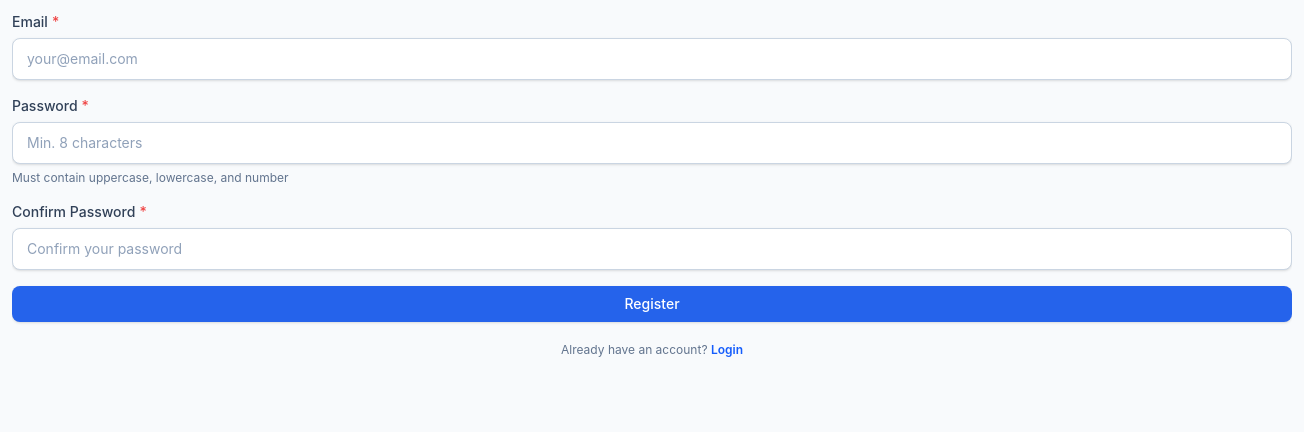
Test: RegisterForm › shows error when passwords do not match
Type "a@b.com" into the field labelled "Email*". click: (652, 59)
box: [12,38,1292,80]
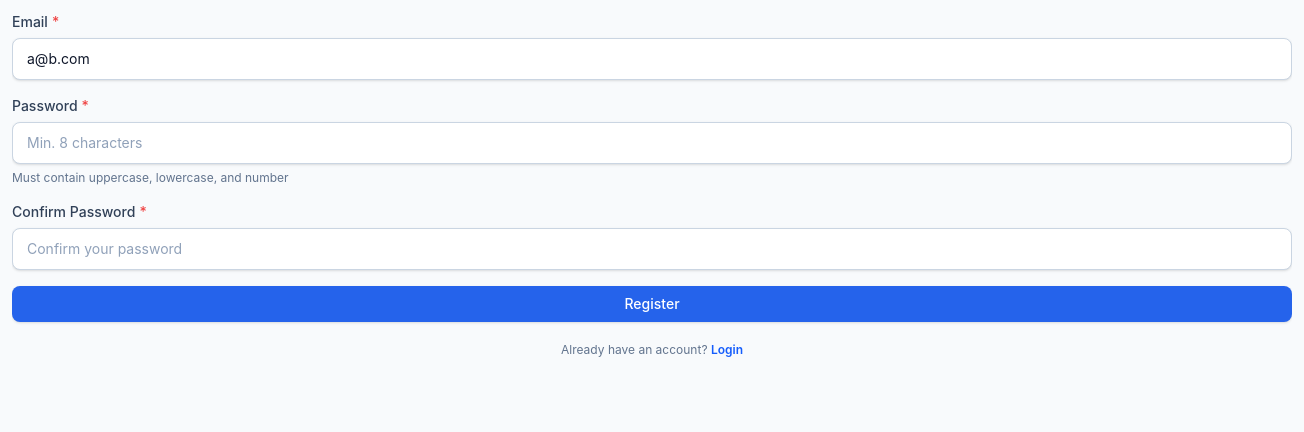
Type "Password123" into the password field labelled "Password*". click: (652, 143)
box: [12,122,1292,164]
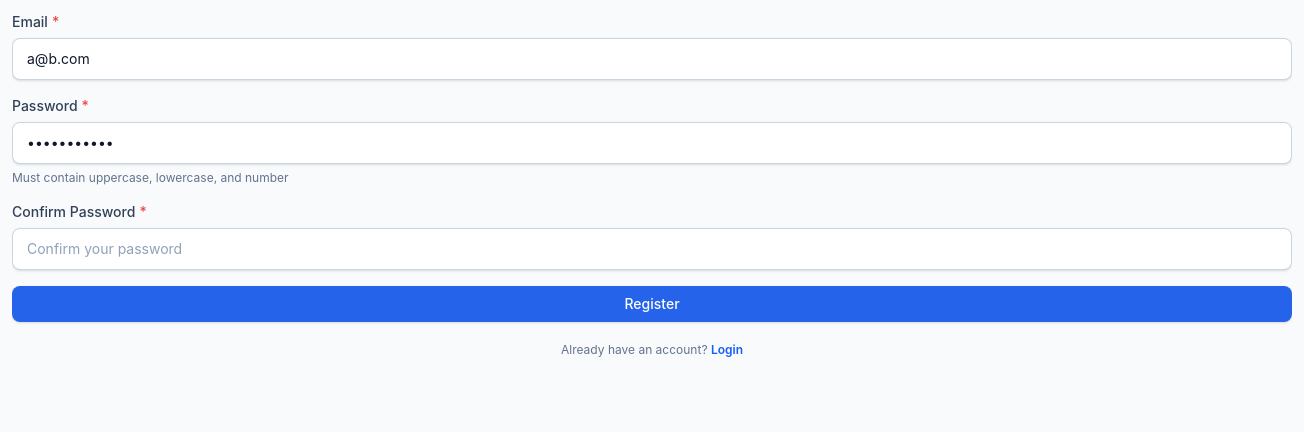
Type "Different123" into the password field labelled "Confirm Password*". click: (652, 249)
box: [12,228,1292,270]
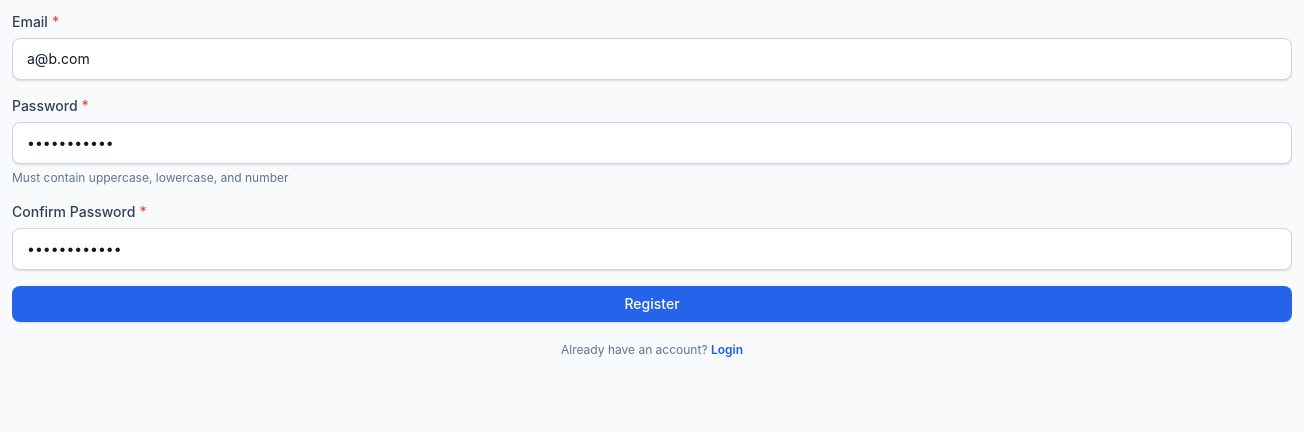
Click the button "Register". click: click(652, 304)
box: [12,286,1292,322]
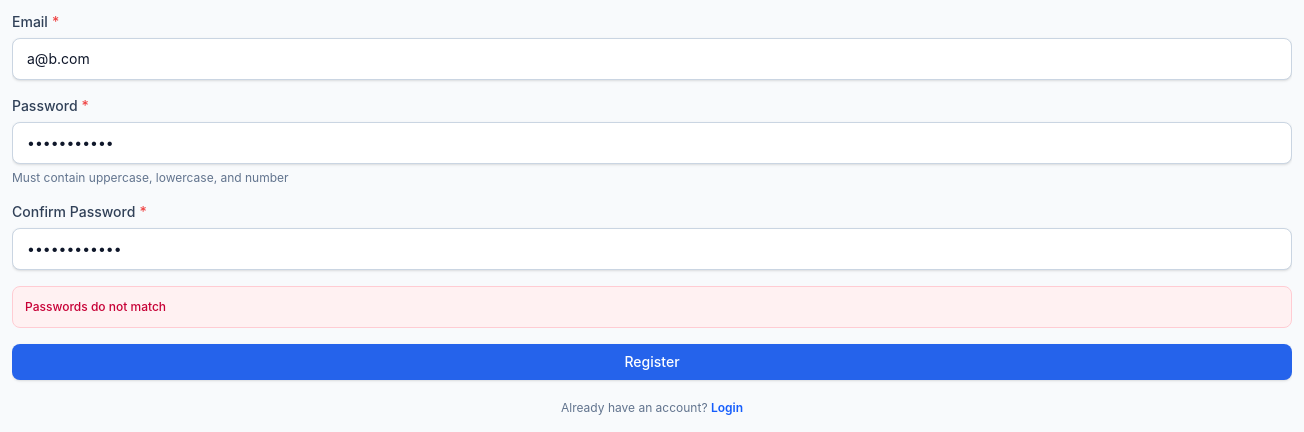
Check: the text "Passwords do not match" is shown, box [12,286,1292,328]
